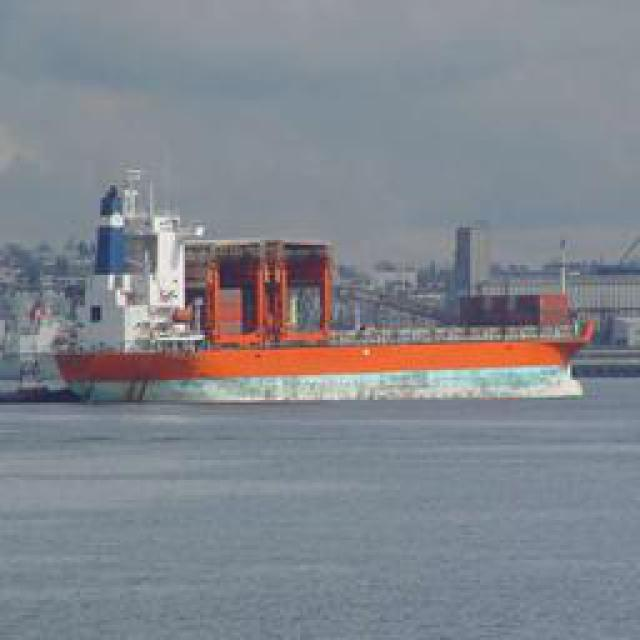Ship: (16, 175, 599, 405)
